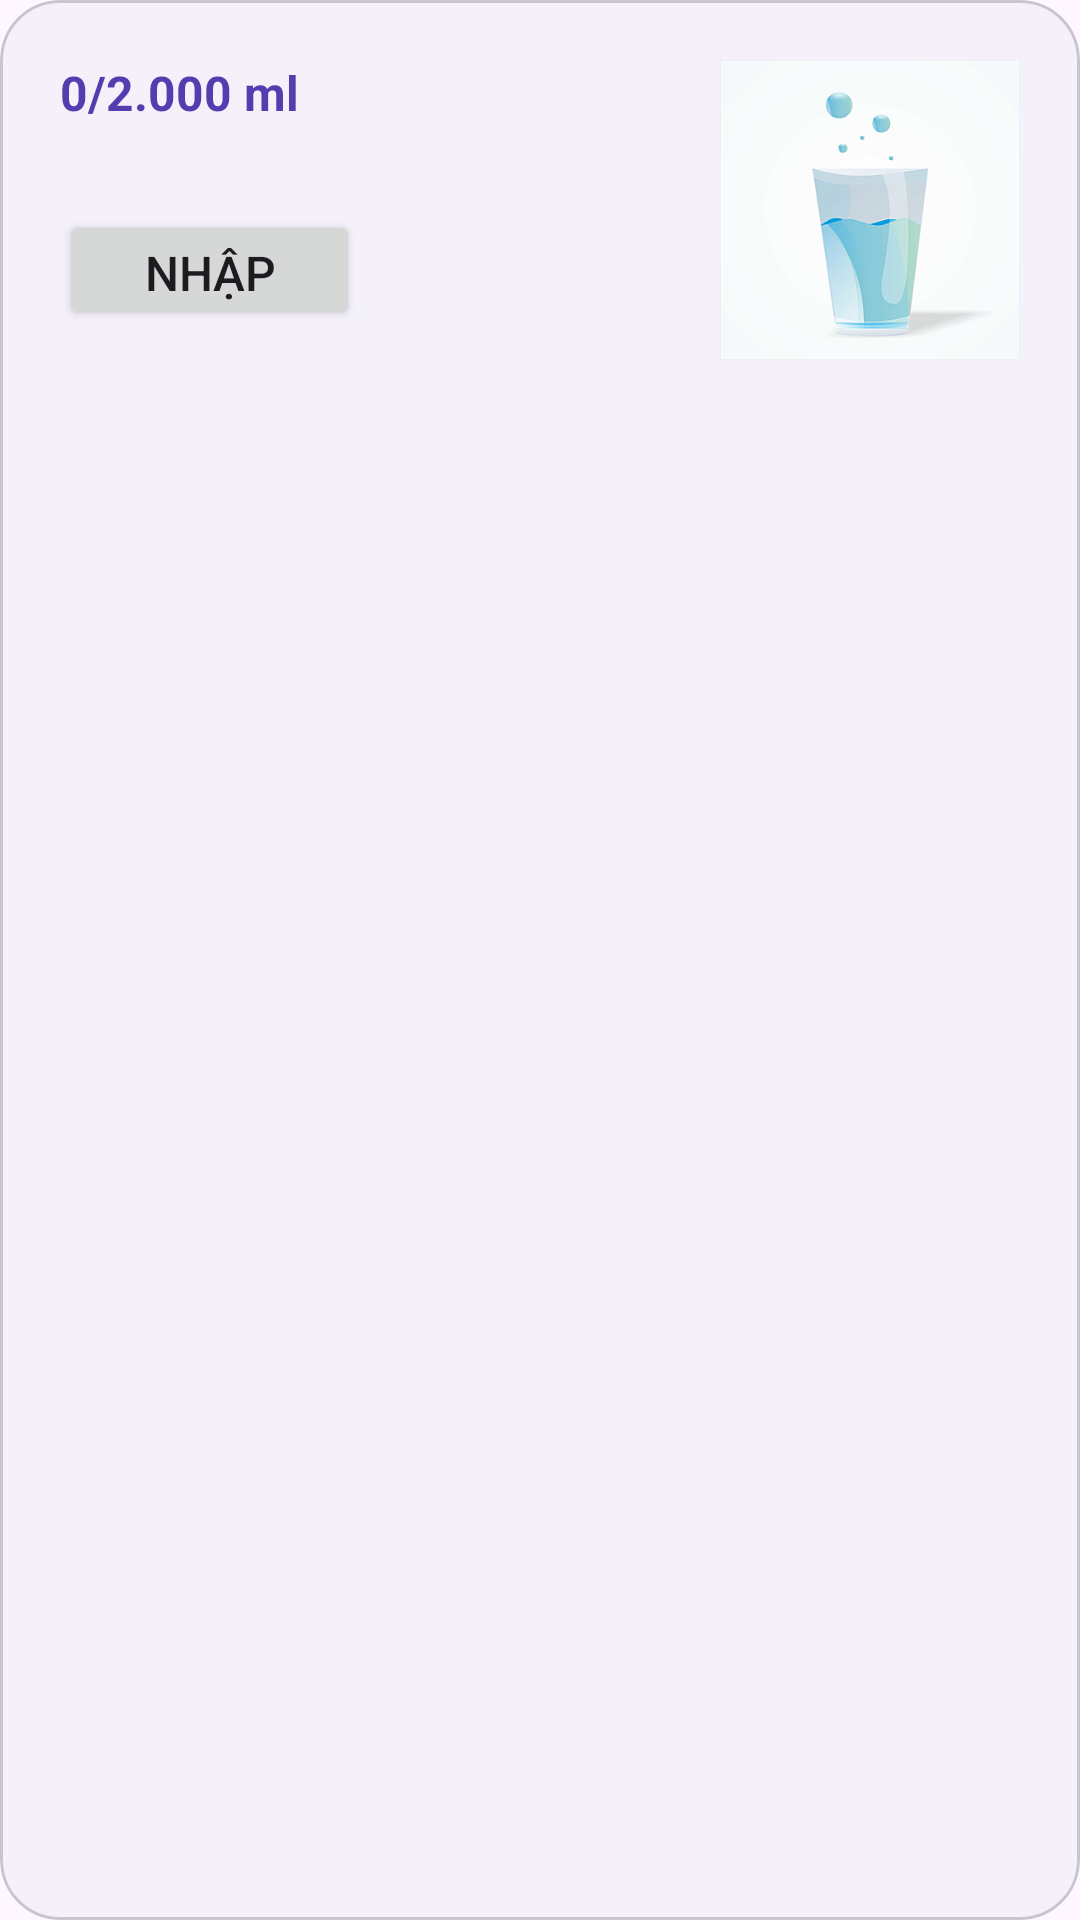

Icon click points for this 1080x1920 phone screenshot, format point (x, y):
glass: point (870, 210)
